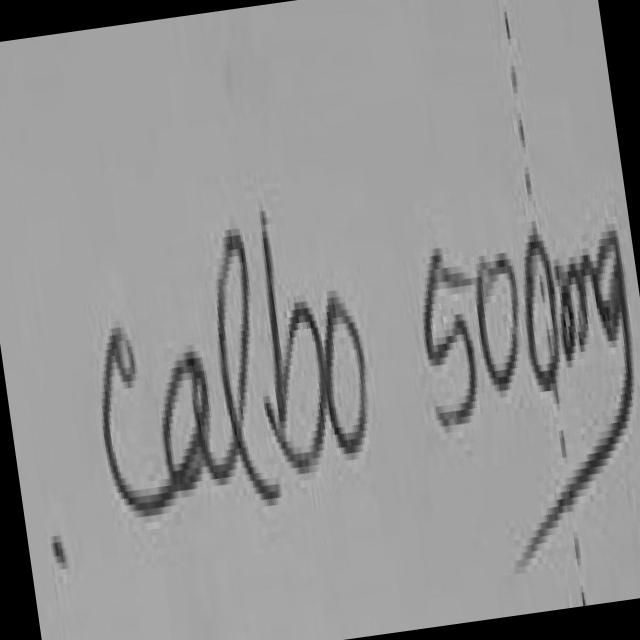0: (478, 253, 520, 386), (527, 234, 562, 387)
5: (425, 259, 478, 419)
C: (104, 328, 174, 511)
a: (163, 352, 237, 491)
b: (259, 218, 327, 469)
g: (530, 231, 635, 551)
l: (208, 230, 280, 502)
m: (553, 252, 617, 370)
o: (325, 308, 368, 454)
